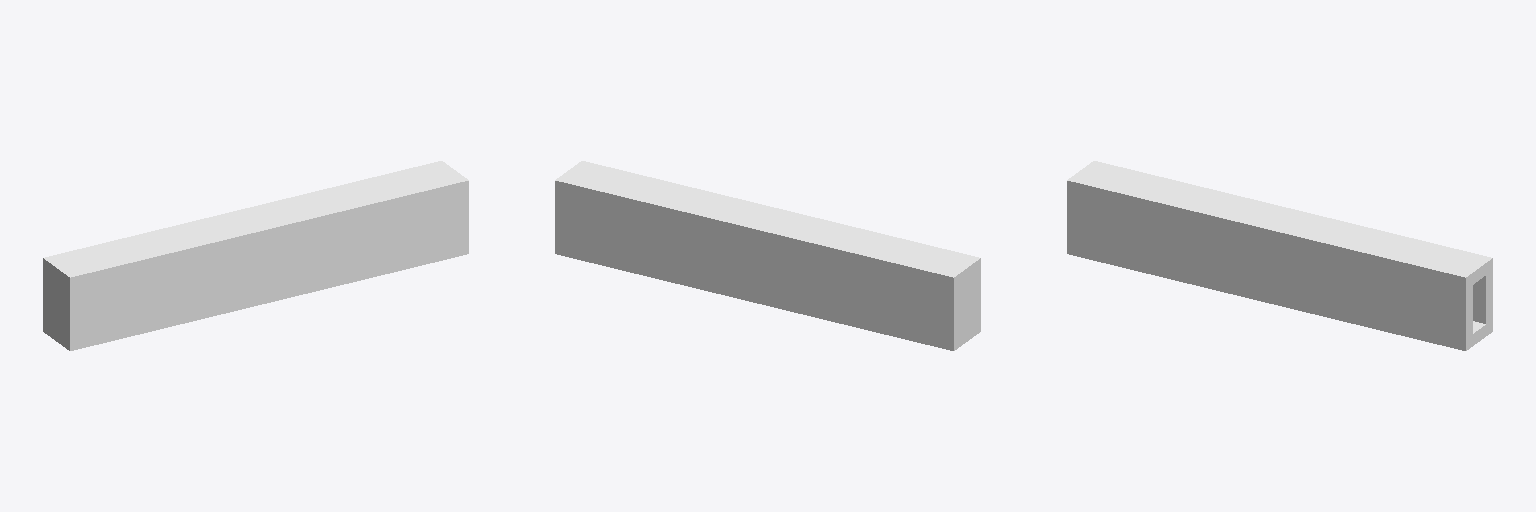
File: Gun1-9 1.obj
The picture shows the model from 3 angles: view 1: azimuth 30°, elevation 25°; view 2: azimuth 150°, elevation 25°; view 3: azimuth 330°, elevation 25°; orthographic projection.
Parts seen in each view (by area): view 1: object 1; view 2: object 1; view 3: object 1.
Part boxes in pixels (bbox=[...]): object 1: bbox=[43, 161, 468, 350]; object 1: bbox=[555, 161, 980, 350]; object 1: bbox=[1067, 161, 1492, 350].
Size of the model in its own units: 3.4 by 0.6 by 0.4.